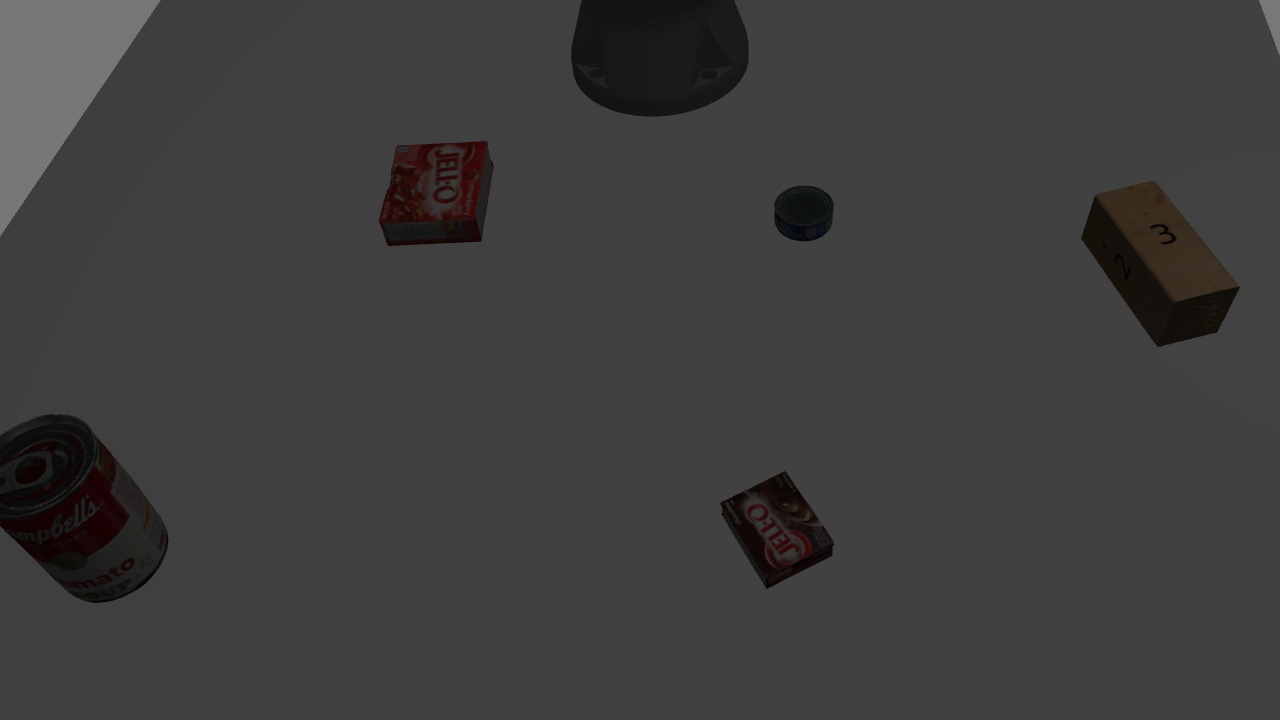gelatin_box: (372, 134, 511, 250)
pudding_box: (710, 467, 847, 590)
tomato_soup_can: (2, 408, 175, 619)
tuna_fish_can: (766, 173, 849, 242)
wood_block: (1076, 179, 1244, 349)
